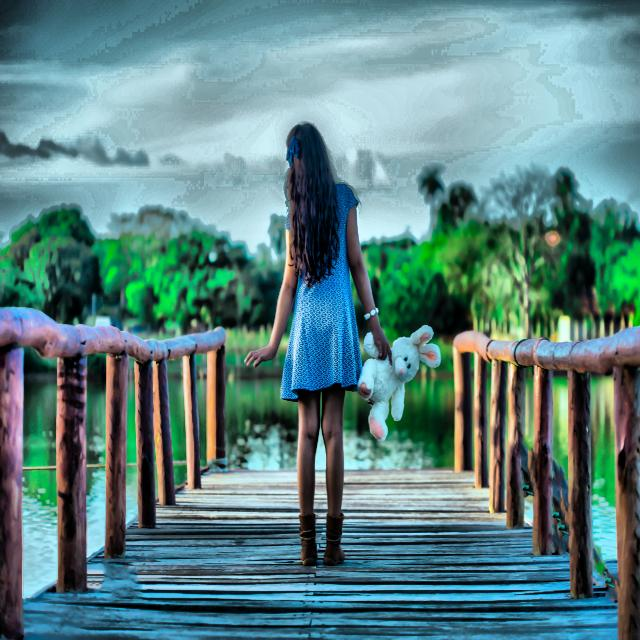Human: (256, 106, 392, 579)
